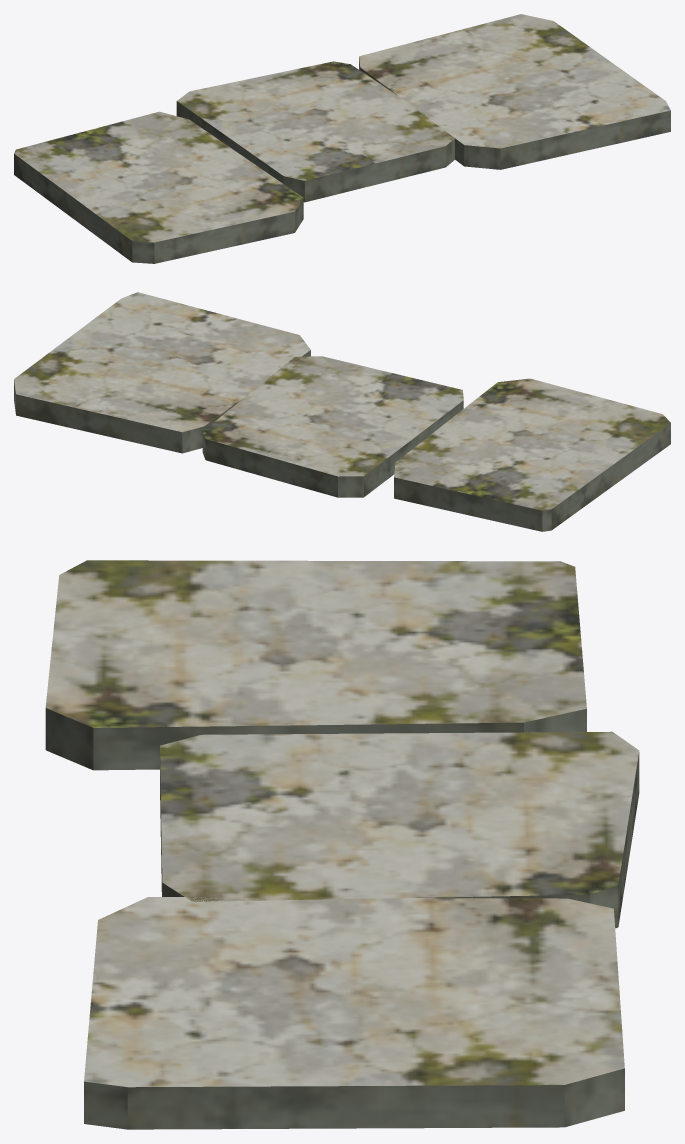
File: Paving_Broken_B.glb
The picture shows the model from 3 angles, top to bottom: view 1: azimuth 30°, elevation 25°; view 2: azimuth 150°, elevation 25°; view 3: azimuth 270°, elevation 25°; orthographic projection. The views are drawn at different scales.
Visible parts, largest first — view 1: Paving_Broken_B; view 2: Paving_Broken_B; view 3: Paving_Broken_B.
Boxes of the visible parts, box(x1,y1,x2,y2) form: Paving_Broken_B: box(14, 14, 670, 263); Paving_Broken_B: box(14, 292, 670, 531); Paving_Broken_B: box(45, 560, 639, 1129).
Bounding box in the file's own units: 2.13 × 0.08 × 1.01.
1 material, 1 textured.
